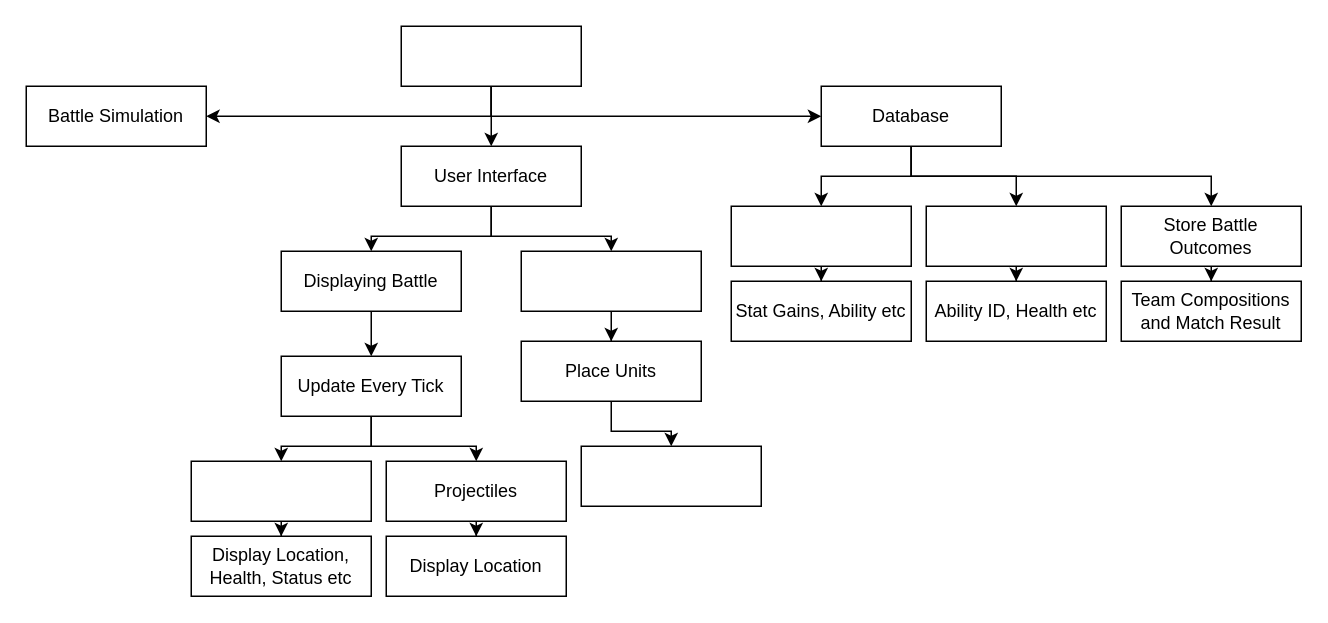
Some shapes in this 1328 by 623 pixel diagram are drawn without their labels. The shapes that lost their labels are listed below. From the top down, each one's centre as x and y in pixels, then its label:
At point (490, 55): "Finished Program".
At point (820, 235): "Store Items".
At point (1015, 235): "Store Units".
At point (610, 280): "Battle Setup".
At point (280, 490): "Units".
At point (670, 475): "Place Items on Units".
